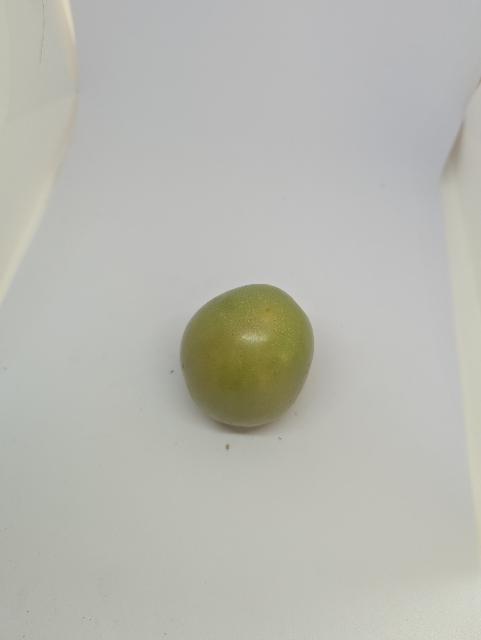green: (169, 269, 337, 435)
